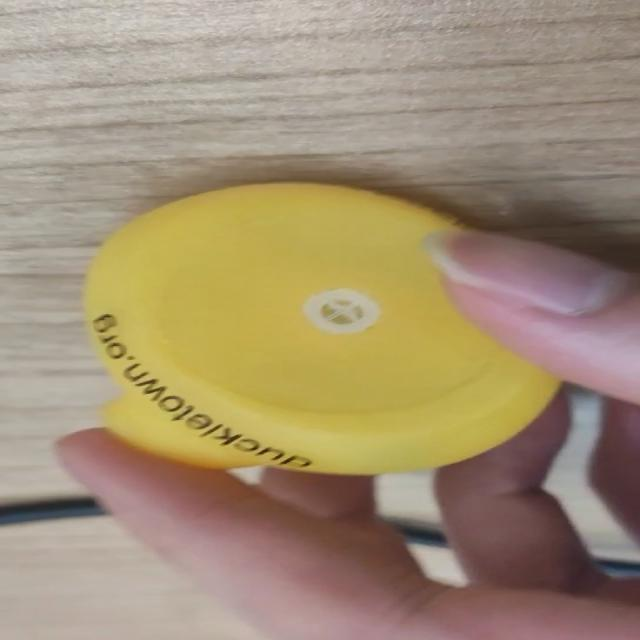rubber-duck: (85, 183, 556, 472)
